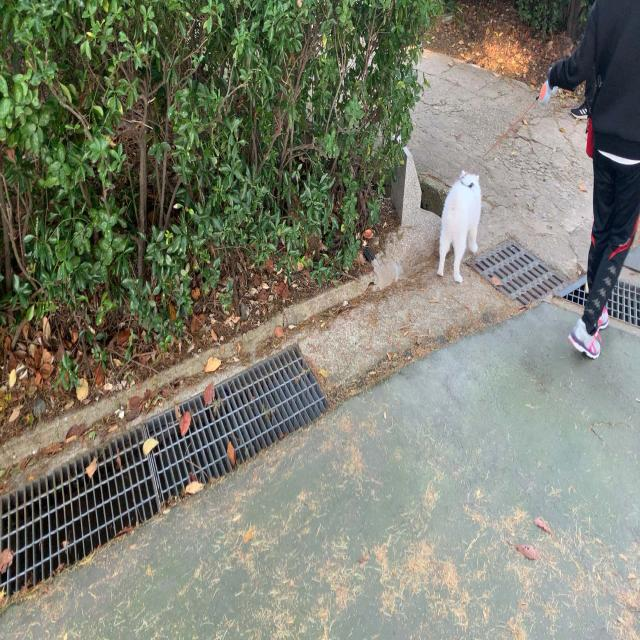Leashed_Dog: (437, 67, 600, 284)
